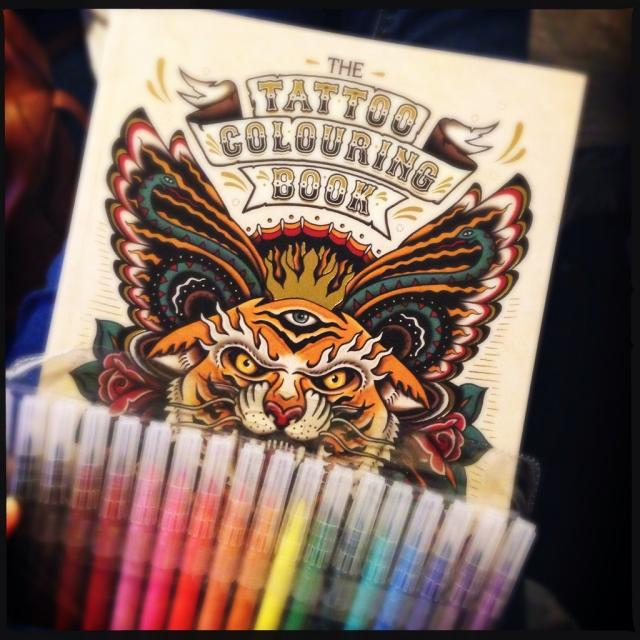Tiger: (146, 294, 431, 473)
